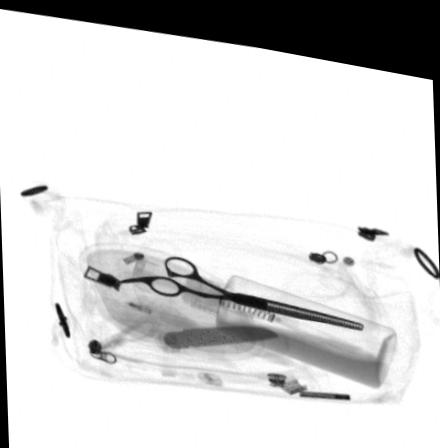Knife: (160, 314, 279, 340)
Scissors: (113, 247, 363, 316)
